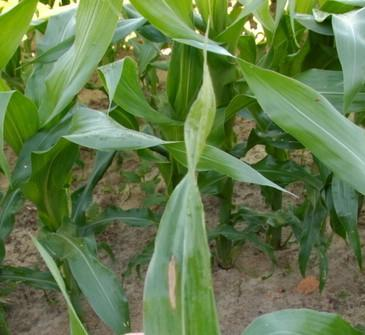Corn_Blight: (156, 248, 181, 323)
